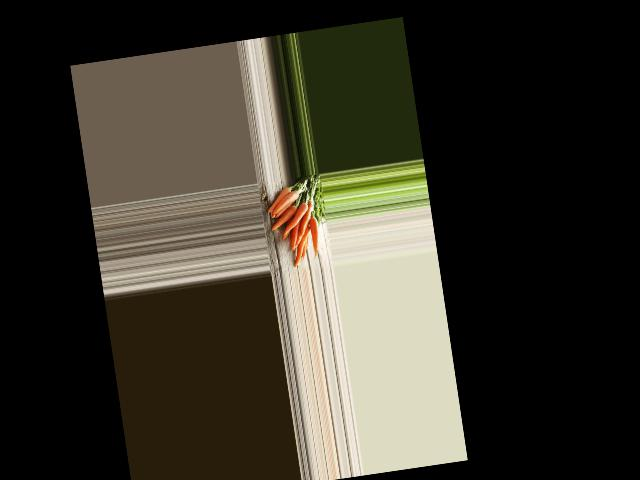carrot: (307, 217, 325, 256)
